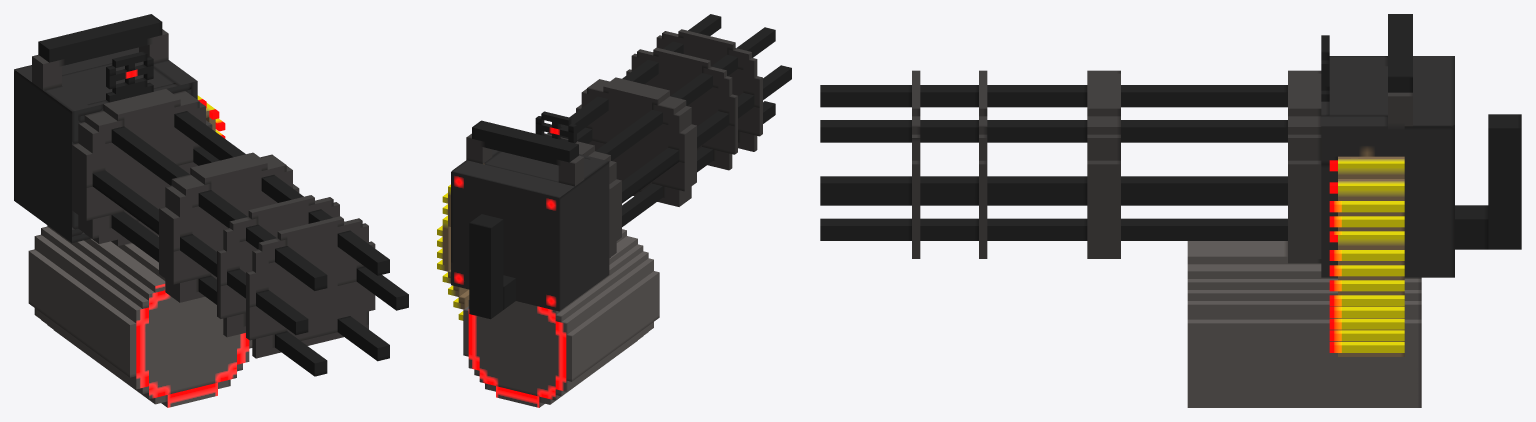
File: Minigun.dae
3 views of the same model, side by side, from view 1: azimuth 30°, elevation 25°; view 2: azimuth 150°, elevation 25°; view 3: azimuth 270°, elevation 25° (orthographic). The views are drawn at different scales.
Visible parts, largest first — view 1: Minigun; view 2: Minigun; view 3: Minigun.
Part boxes in pixels (x1,y1,x2,y2): Minigun: [14, 14, 408, 407]; Minigun: [437, 14, 791, 407]; Minigun: [820, 14, 1521, 407].
Bounding box in the file's own units: 26 × 46 × 84.
1 material, 1 textured.
